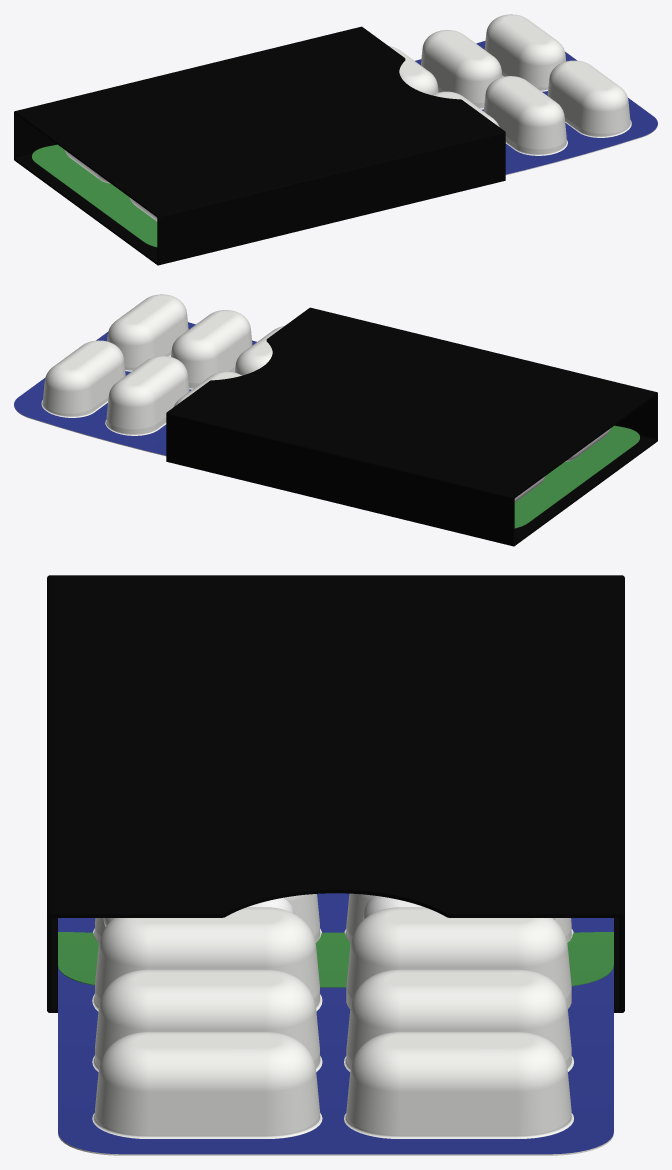
The model's file is pills.dae.
The picture shows the model from 3 angles, top to bottom: view 1: azimuth 30°, elevation 25°; view 2: azimuth 150°, elevation 25°; view 3: azimuth 270°, elevation 25°; orthographic projection. The views are drawn at different scales.
Visible parts, largest first — view 1: 6895d5360e53815f85d0786b (×3); view 2: 6895d5360e53815f85d0786b (×3); view 3: 6895d5360e53815f85d0786b (×3).
Part boxes in pixels (left/top/right/bottom): 6895d5360e53815f85d0786b (×3): left=14, top=14, right=657, bottom=265; 6895d5360e53815f85d0786b (×3): left=14, top=294, right=657, bottom=546; 6895d5360e53815f85d0786b (×3): left=47, top=575, right=624, bottom=1155.
Bounding box in the file's own units: 0.1509 × 0.0735 × 0.0139.
